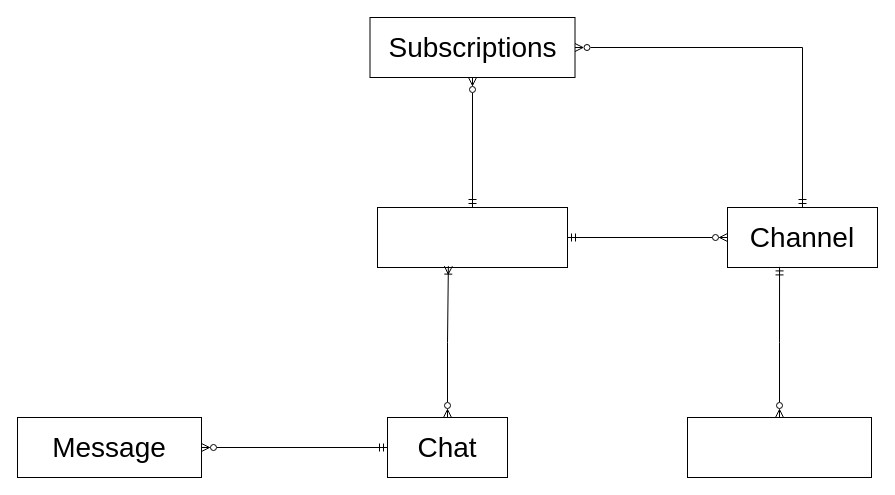
This 895x495 diagram has some shape labels left out. The centre of each missing label's shape, as x and y in pixels:
Post: point 779,447
User: point 472,237
